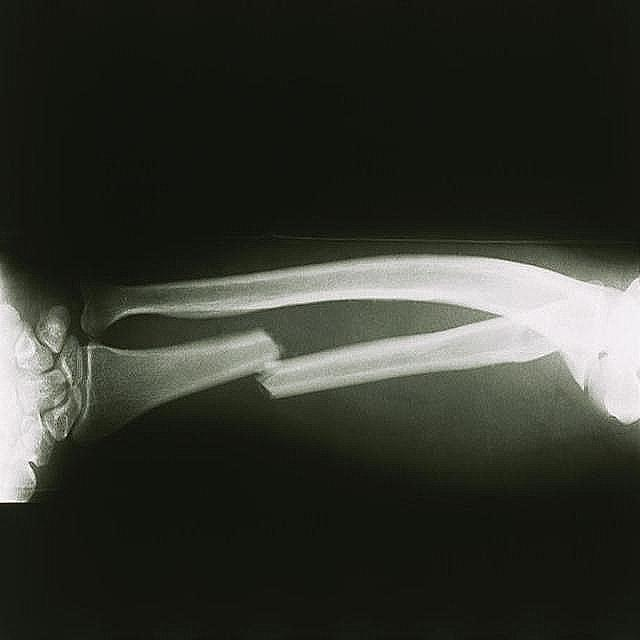bone: (237, 325, 302, 403)
